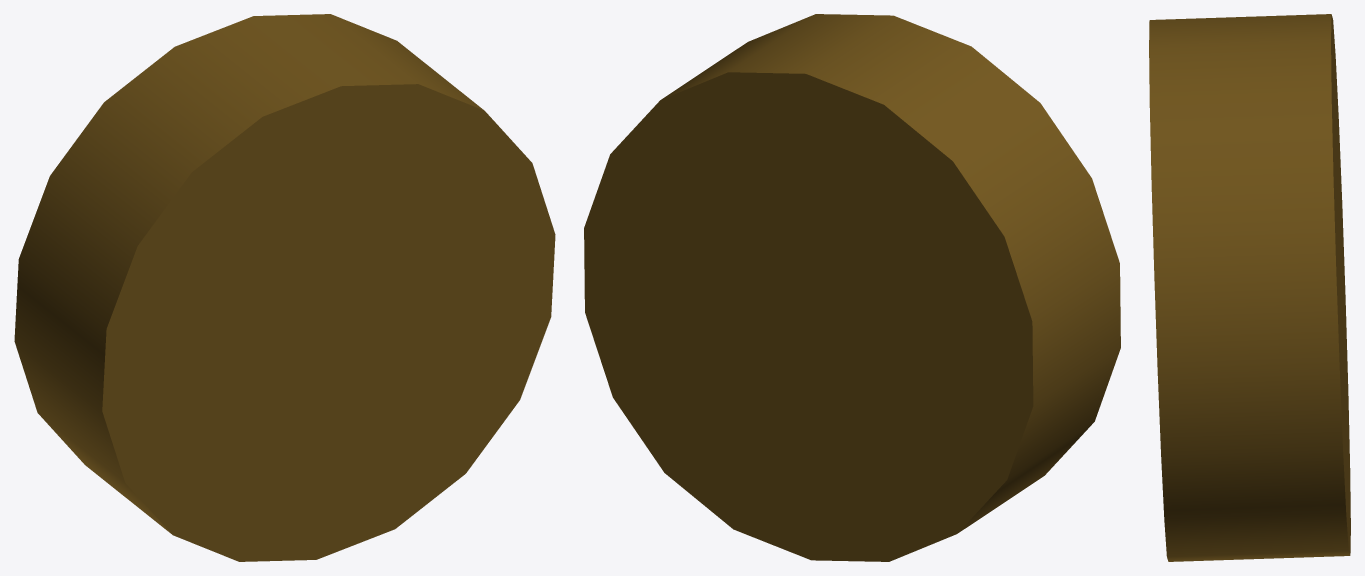
The model's file is original-31.obj.
The picture shows the model from 3 angles, left to right: view 1: azimuth 30°, elevation 25°; view 2: azimuth 150°, elevation 25°; view 3: azimuth 270°, elevation 25°; orthographic projection. The views are drawn at different scales.
Parts seen in each view (by area): view 1: mesh45/mesh45-geometry#mesh45-geometry; view 2: mesh45/mesh45-geometry#mesh45-geometry; view 3: mesh45/mesh45-geometry#mesh45-geometry.
Boxes of the visible parts, x1=… form: mesh45/mesh45-geometry#mesh45-geometry: x1=14, y1=14, x2=555, y2=561; mesh45/mesh45-geometry#mesh45-geometry: x1=584, y1=14, x2=1120, y2=561; mesh45/mesh45-geometry#mesh45-geometry: x1=1149, y1=14, x2=1350, y2=561.
Bounding box in the file's own units: 0.0209 × 0.0214 × 0.00782.
